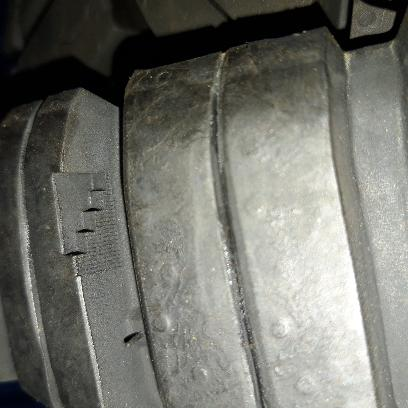temoin:100: (49, 168, 125, 278)
